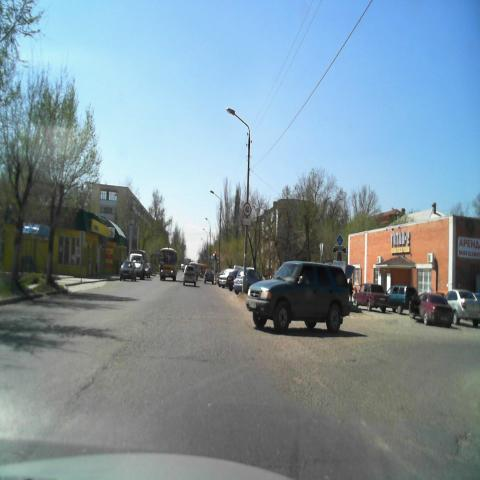3_24: (243, 202, 251, 216)
